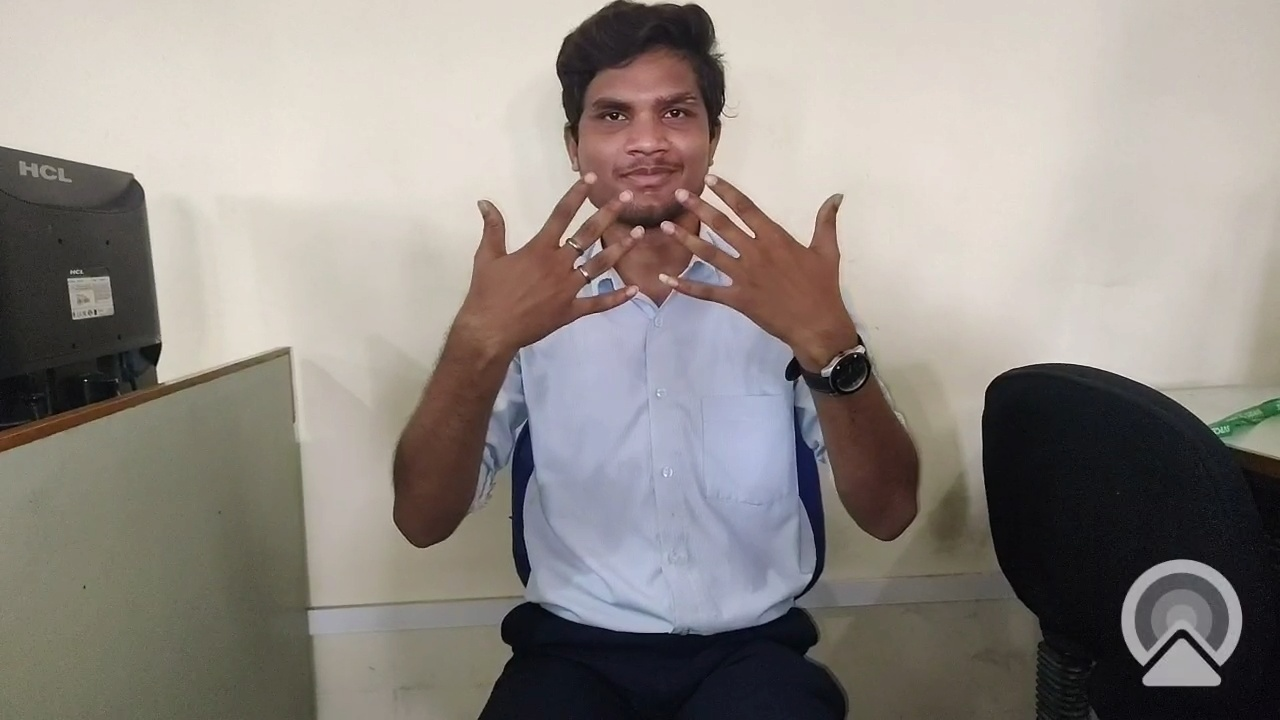Thank you: (425, 161, 919, 469)
